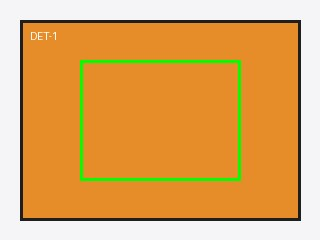canopy: (128, 66, 224, 126)
jumper: (96, 78, 224, 162)
